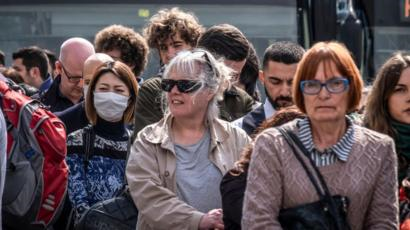with_mask: (90, 71, 134, 125)
without_mask: (302, 62, 350, 121), (163, 64, 210, 121), (260, 52, 301, 107)
